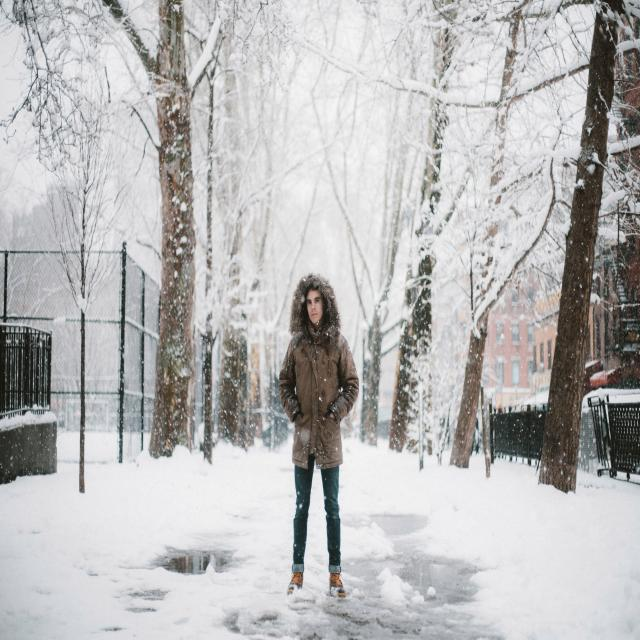adult: (280, 280, 360, 600)
